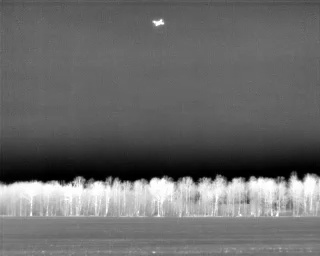DRONE: (149, 14, 169, 31)
